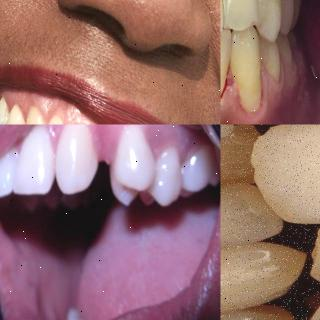maligned: (221, 125, 271, 197)
